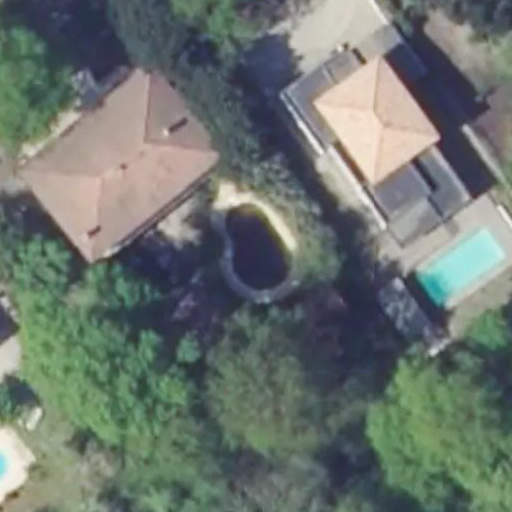pool: (216, 199, 298, 282)
